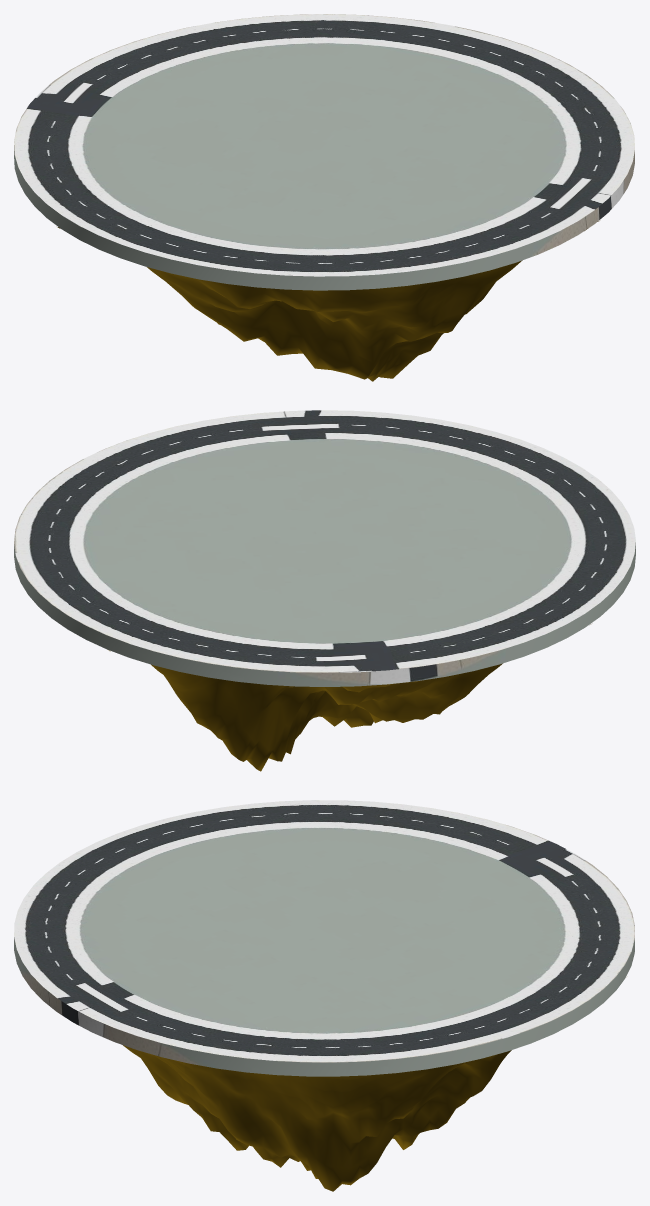
3 renders of one model, top to bottom at view 1: azimuth 30°, elevation 25°; view 2: azimuth 150°, elevation 25°; view 3: azimuth 270°, elevation 25°, orthographic.
Visible parts, largest first — view 1: Disc, Landscape; view 2: Disc, Landscape; view 3: Disc, Landscape.
Part boxes in pixels (x1,y1,x2,y2): Disc: [14, 14, 634, 290]; Landscape: [57, 221, 598, 381]; Disc: [14, 410, 635, 686]; Landscape: [108, 624, 590, 771]; Disc: [14, 800, 634, 1076]; Landscape: [123, 1045, 511, 1191].
Size of the model in its own units: 5 by 2.01 by 5.
Materials: 2 (1 with a texture image).
